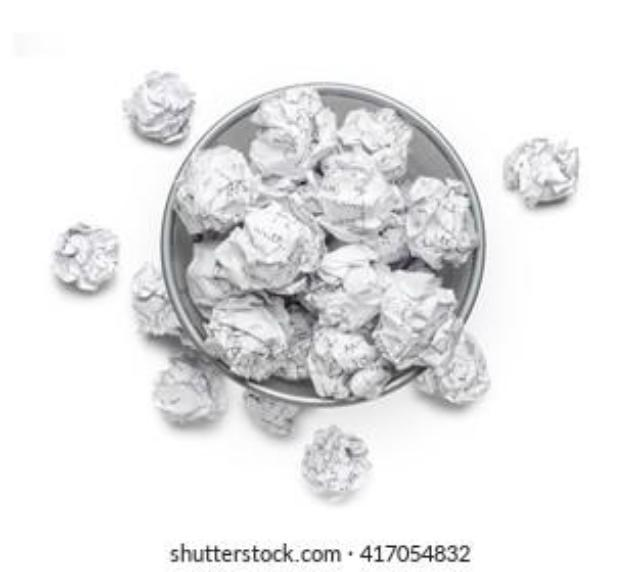Paper: (172, 88, 477, 399)
top_view_waste: (172, 92, 483, 408)
